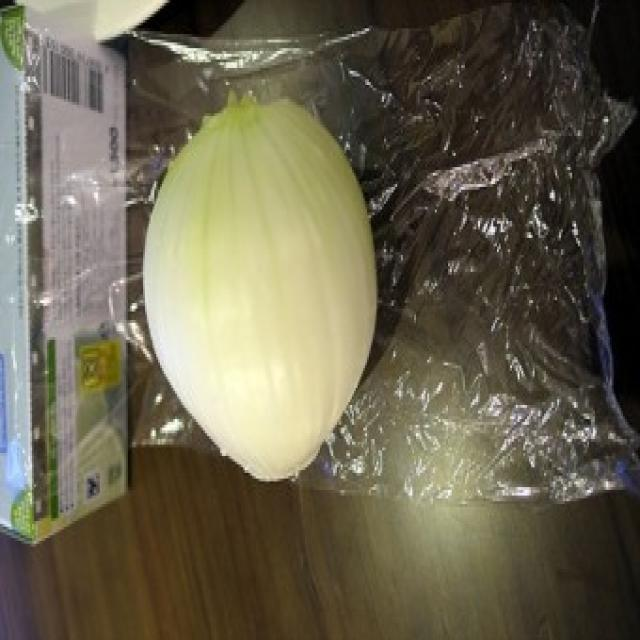onion: (122, 79, 410, 516)
